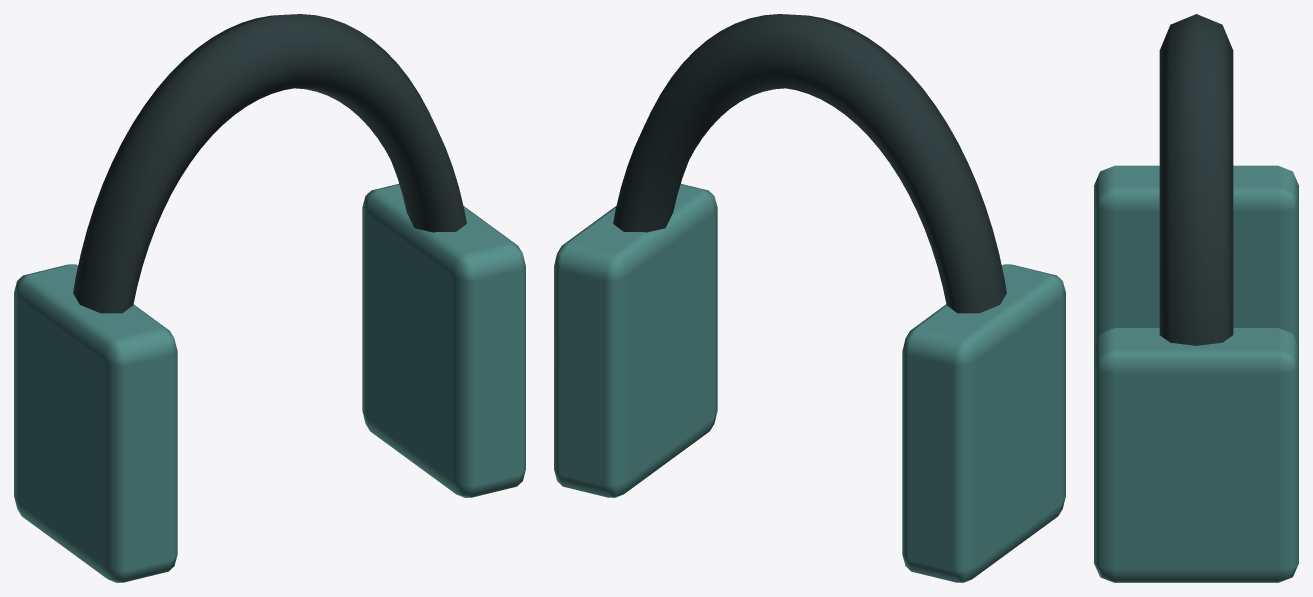
The model's file is wp-casque-audio.glb.
3 views of the same model, side by side, from view 1: azimuth 30°, elevation 25°; view 2: azimuth 150°, elevation 25°; view 3: azimuth 270°, elevation 25° (orthographic). The views are drawn at different scales.
Visible parts, largest first — view 1: wp-casque-audio; view 2: wp-casque-audio; view 3: wp-casque-audio.
Boxes of the visible parts, box(x1,y1,x2,y2) form: wp-casque-audio: box(14, 14, 525, 582); wp-casque-audio: box(554, 14, 1065, 582); wp-casque-audio: box(1094, 14, 1298, 582).
Bounding box in the file's own units: 0.18 × 0.2 × 0.08.
